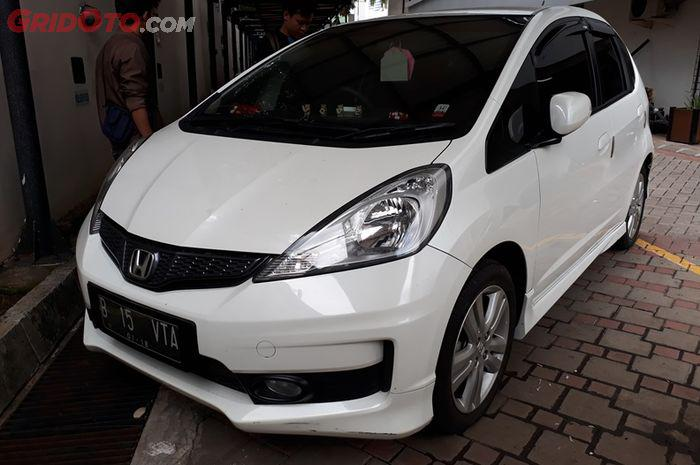plate: (90, 285, 185, 368)
